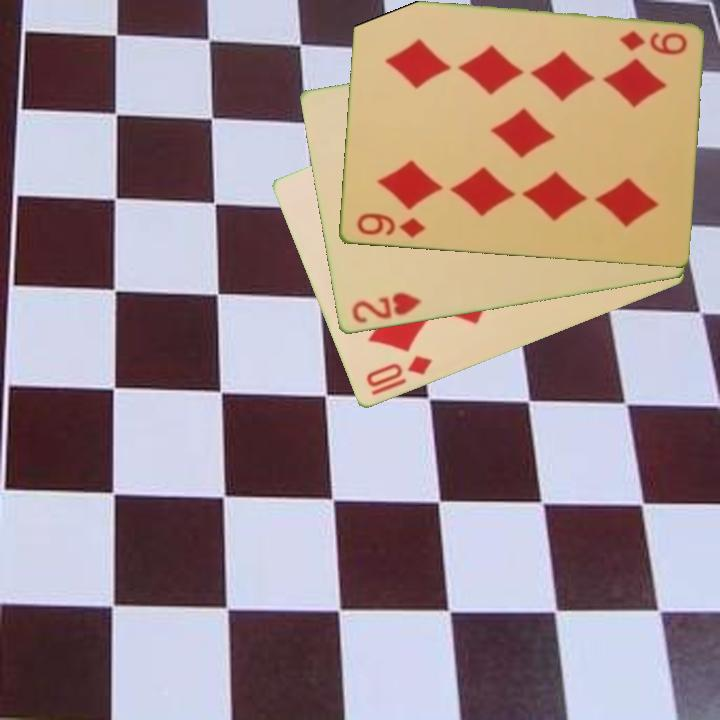10d: (362, 352, 436, 391)
2h: (347, 289, 424, 327)
9d: (353, 210, 428, 241), (616, 27, 690, 58)
